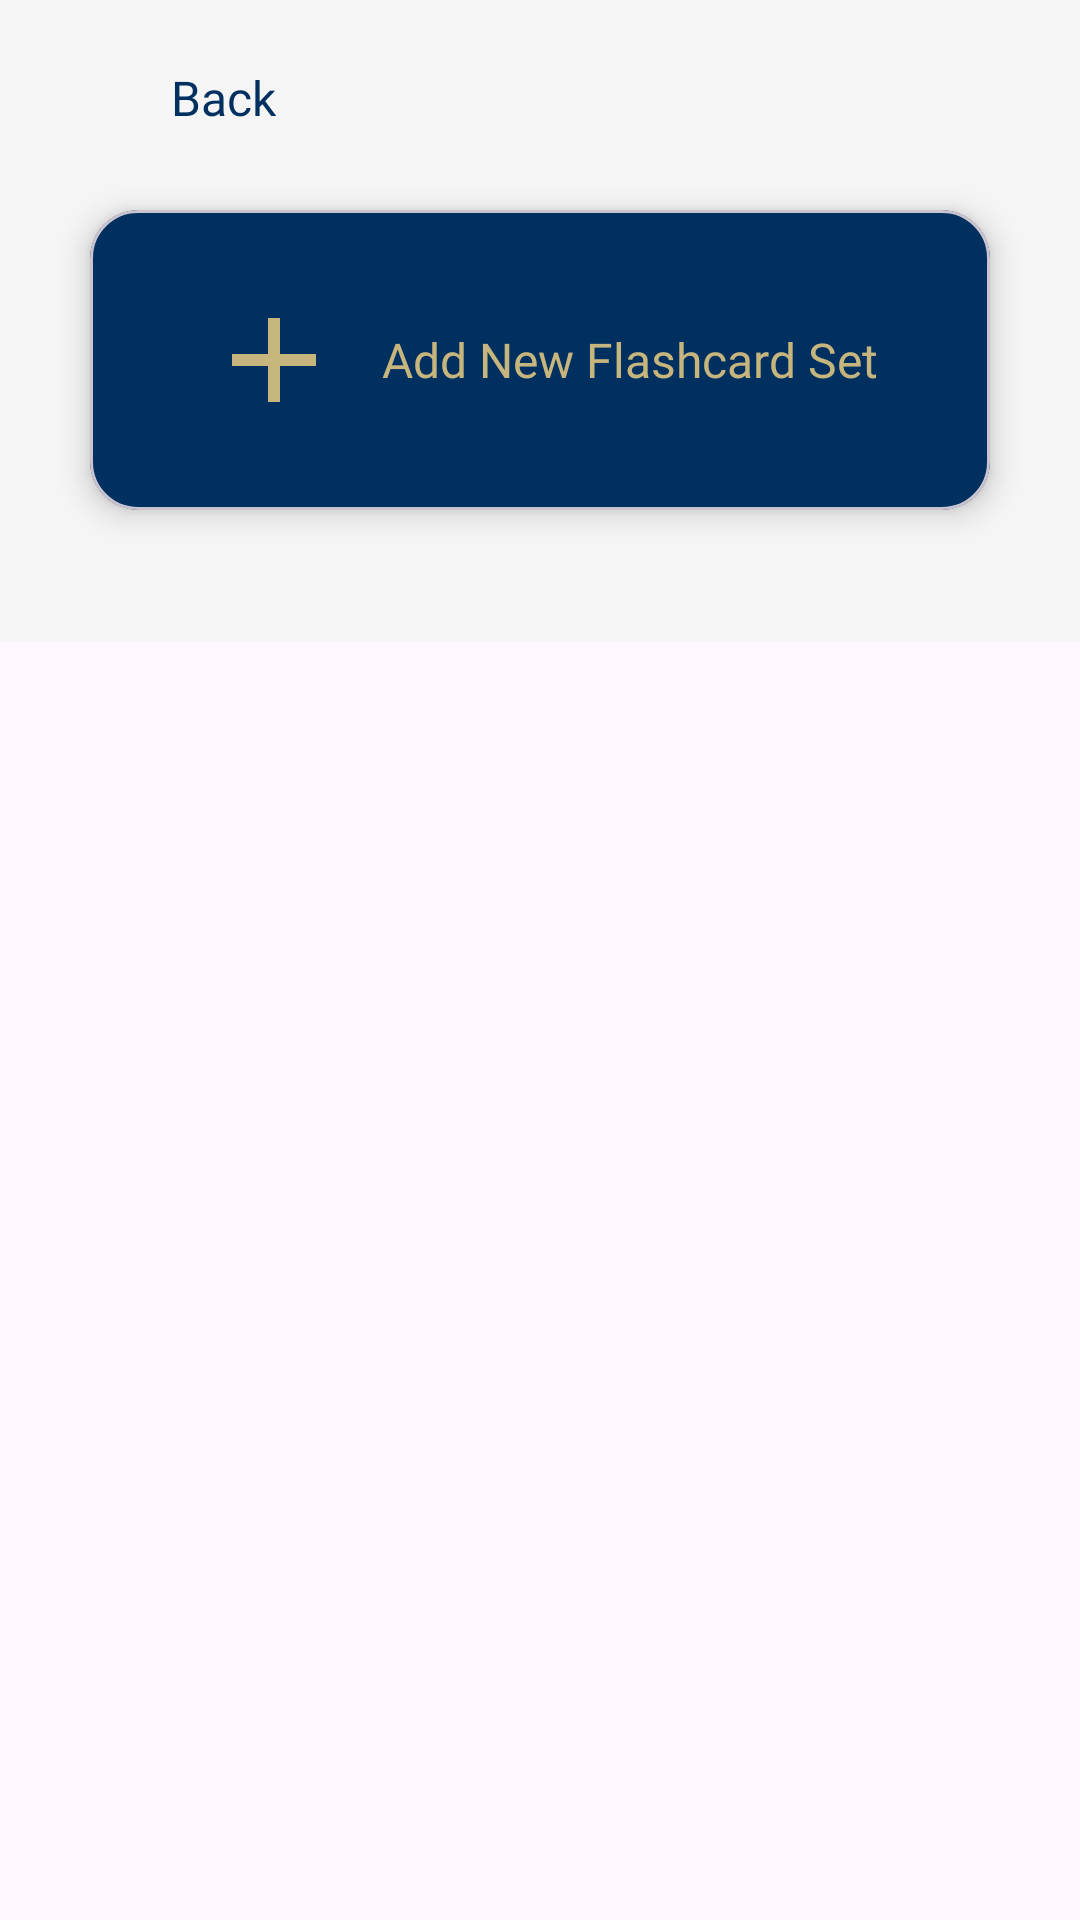

Named icons in this screenshot (1080 x 1920) and their centers, point (x, y):
Add Card Icon: point (274, 360)
